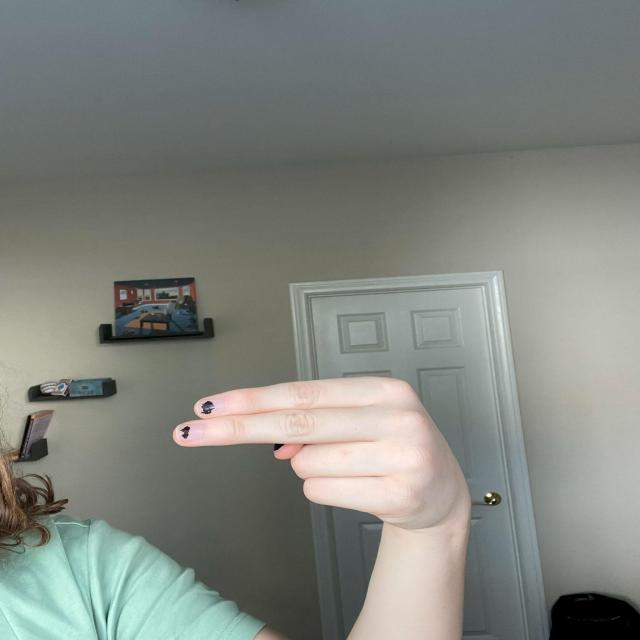H: (164, 372, 474, 526)
